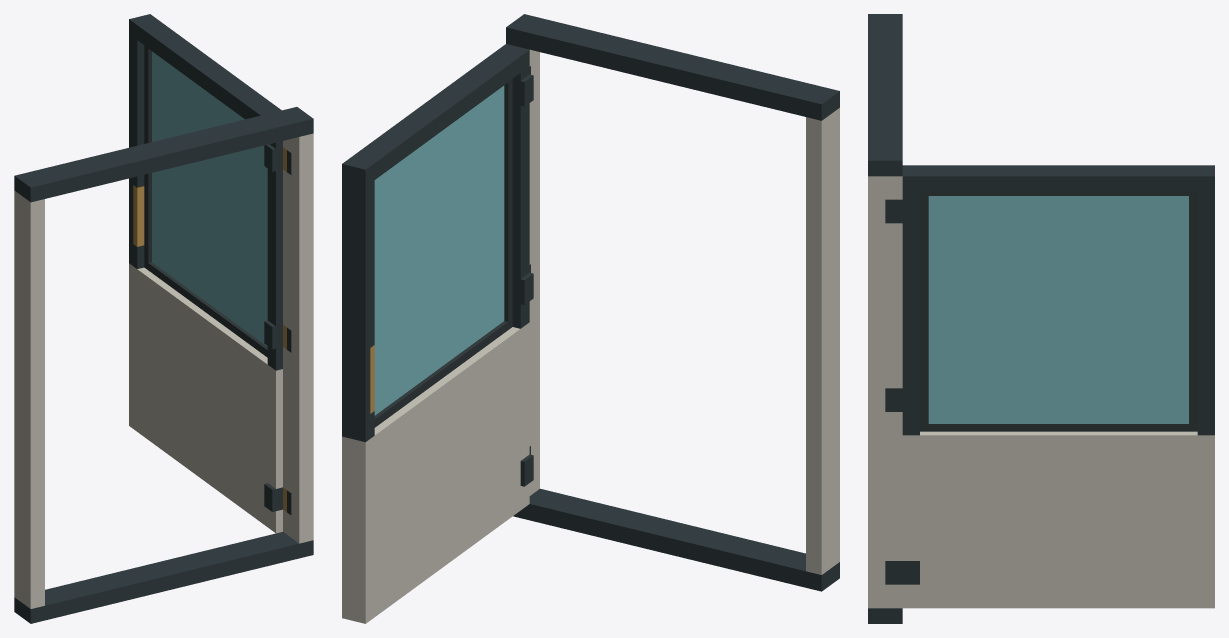
3 views of the same model, side by side, from view 1: azimuth 30°, elevation 25°; view 2: azimuth 150°, elevation 25°; view 3: azimuth 270°, elevation 25° (orthographic). The views are drawn at different scales.
Visible parts, largest first — view 1: 城市道路载具门壳与铰接组件; view 2: 城市道路载具门壳与铰接组件; view 3: 城市道路载具门壳与铰接组件.
Boxes of the visible parts, x1,y1,x2,y2 form: 城市道路载具门壳与铰接组件: (14, 14, 313, 623); 城市道路载具门壳与铰接组件: (342, 14, 839, 623); 城市道路载具门壳与铰接组件: (868, 14, 1214, 623).
Size of the model in its own units: 2 by 2.95 by 2.
Materials: 5 (5 with a texture image).
